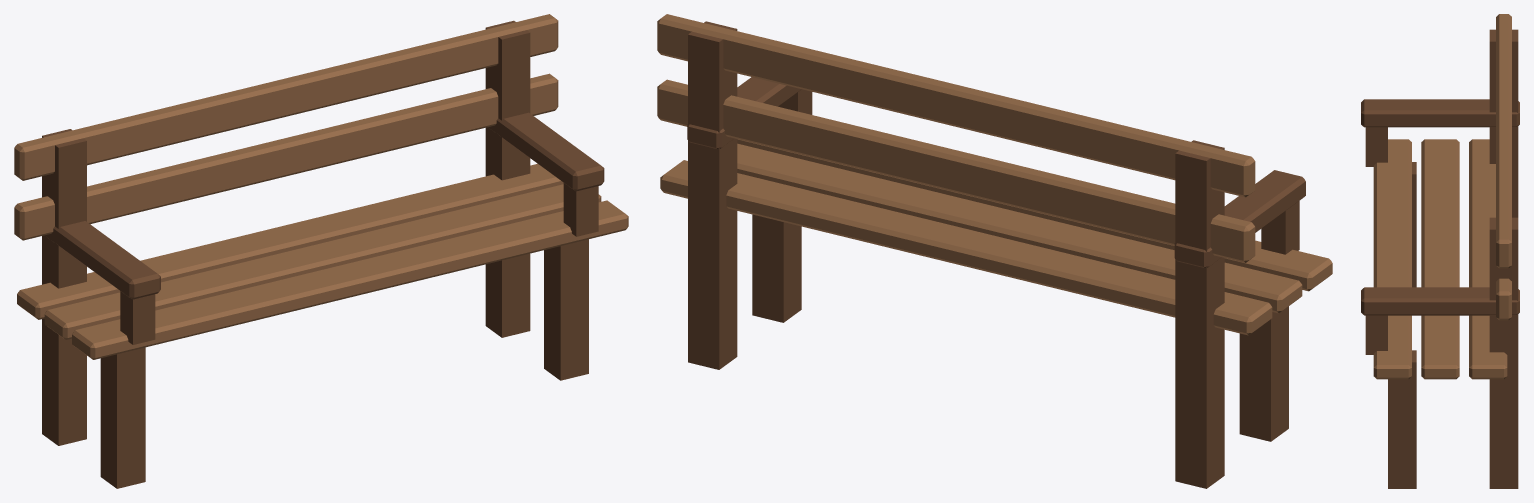
Rendered from bench.glb.
3 renders of one model, left to right at view 1: azimuth 30°, elevation 25°; view 2: azimuth 150°, elevation 25°; view 3: azimuth 270°, elevation 25°, orthographic. The views are drawn at different scales.
Visible parts, largest first — view 1: bench; view 2: bench; view 3: bench.
Part boxes in pixels (x1,y1,x2,y2): bench: (14, 14, 628, 488); bench: (657, 14, 1332, 488); bench: (1361, 14, 1519, 488).
Size of what is drawn, in the model's own units: 1.7 by 0.91 by 0.5.
